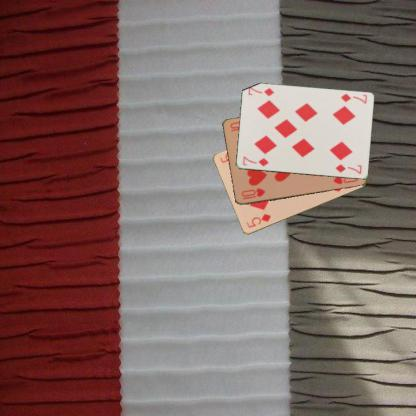10h: (239, 186, 266, 200)
5d: (244, 211, 272, 230)
7d: (240, 154, 270, 168), (338, 90, 368, 104)
